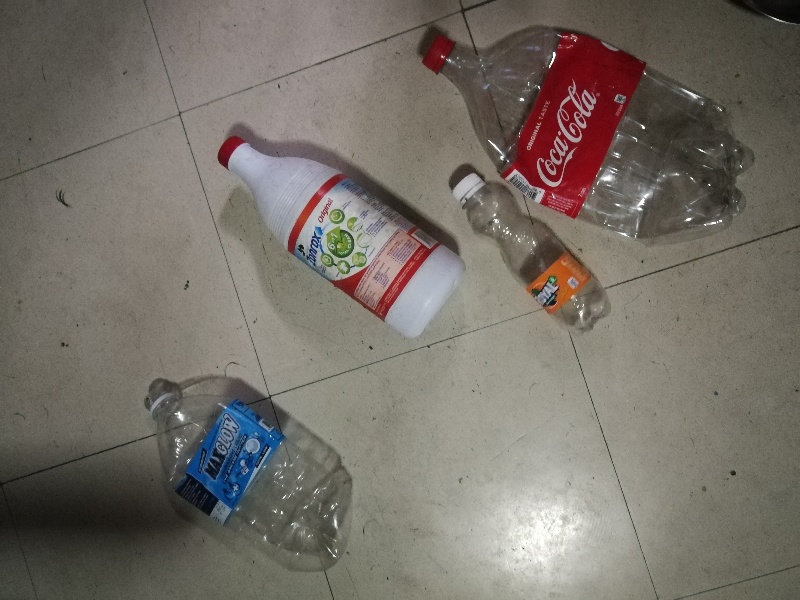HDPE #2: (215, 133, 466, 343)
PET #1: (422, 29, 752, 241), (142, 390, 352, 561), (452, 169, 610, 333)
